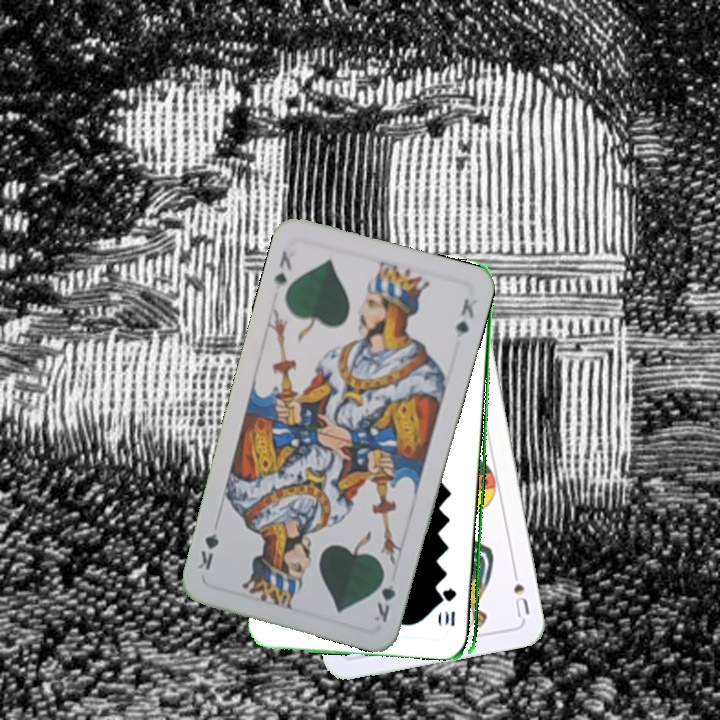G10: (441, 584, 459, 629)
GK: (369, 567, 399, 625), (270, 247, 295, 293)
SU: (508, 562, 532, 620)
